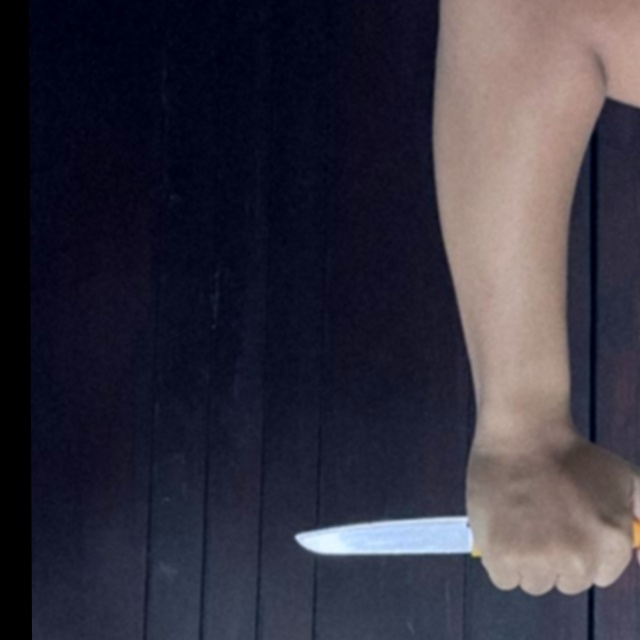Sharp-Object: (293, 513, 640, 558)
